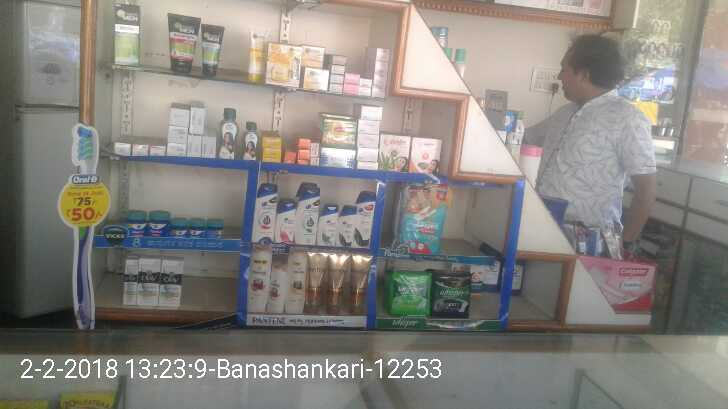beauty: (248, 249, 273, 311), (158, 255, 185, 311), (345, 252, 368, 315), (325, 254, 348, 313), (297, 181, 318, 244), (255, 182, 275, 247), (138, 255, 160, 307), (353, 188, 373, 245), (267, 262, 288, 312), (287, 252, 304, 313), (307, 251, 324, 312), (277, 199, 294, 247), (319, 203, 338, 245), (339, 205, 357, 249), (124, 254, 139, 305)
pharmacy: (392, 183, 445, 256), (384, 271, 430, 317), (431, 270, 472, 320), (122, 208, 148, 241), (148, 211, 169, 238), (169, 220, 191, 241), (187, 218, 206, 241), (206, 224, 222, 244)
